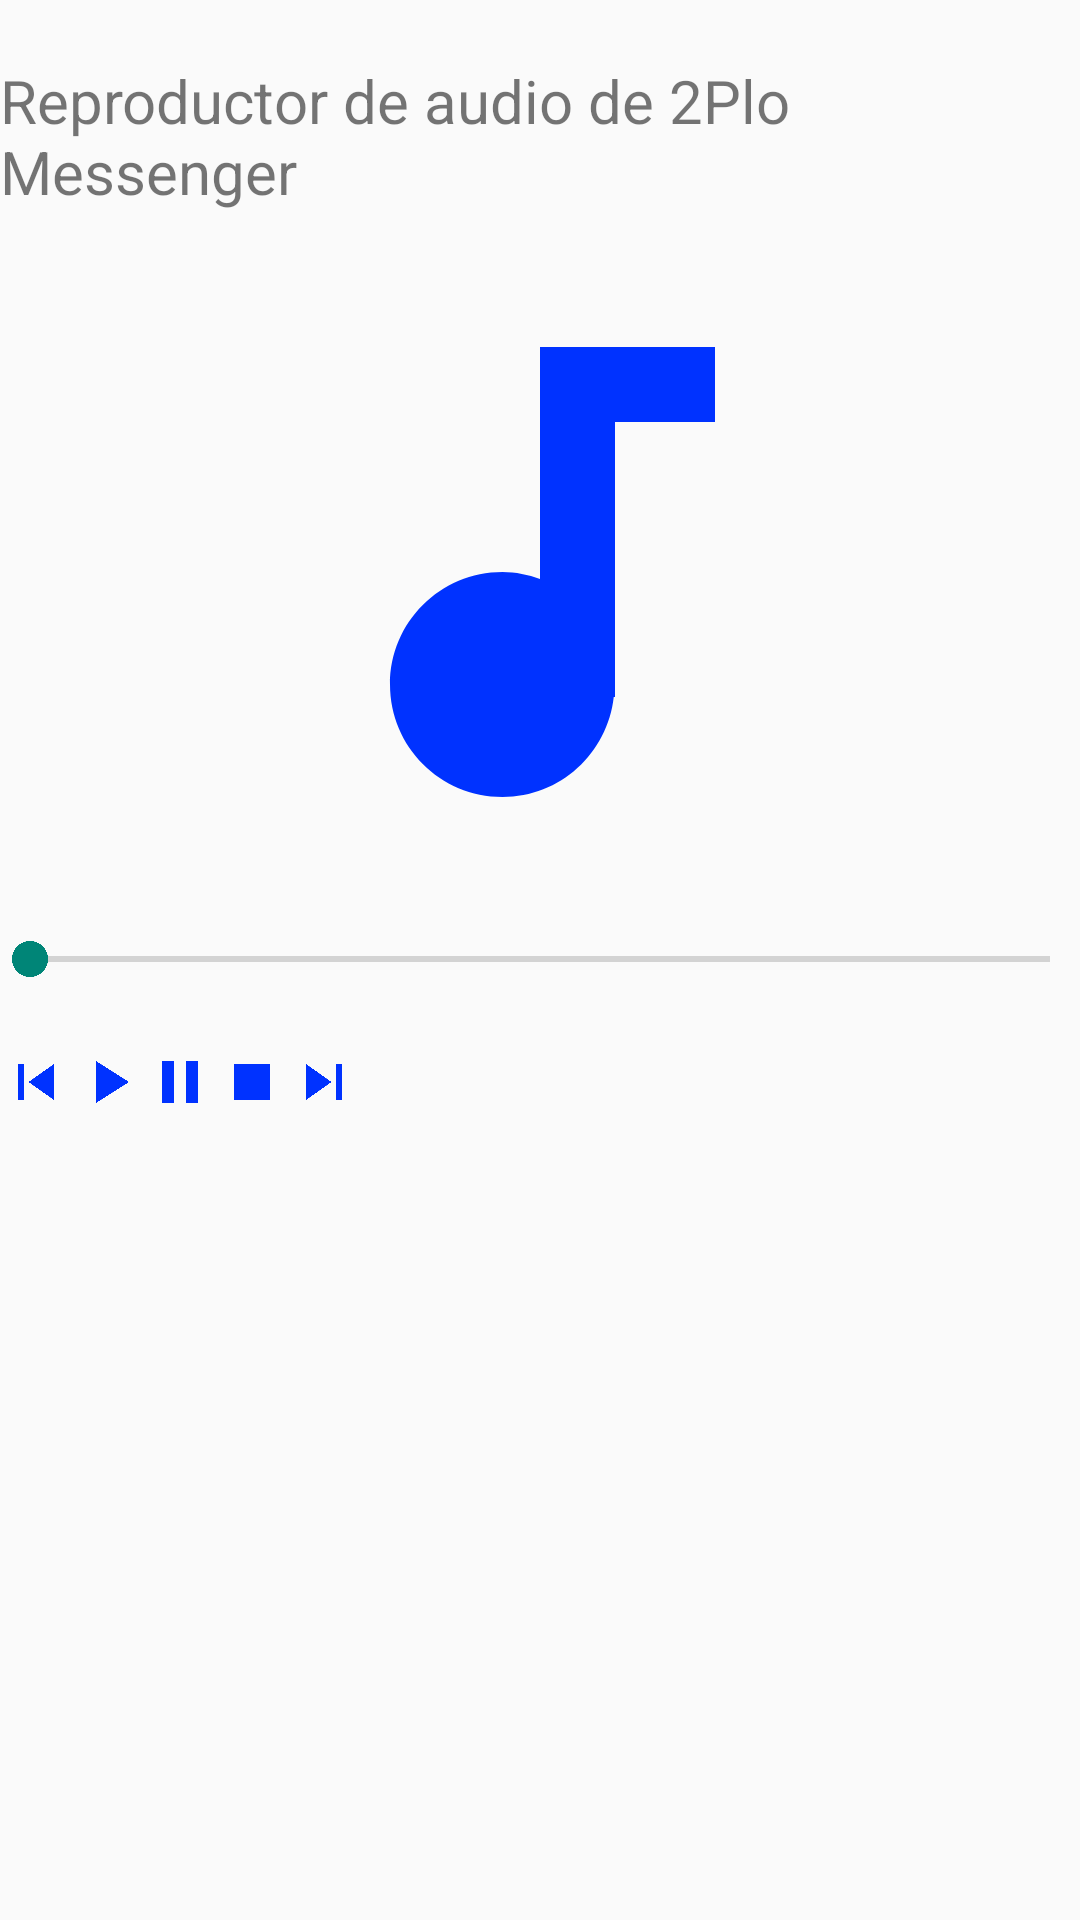

Icon bounding boxes for this 1080w x 1920h phone screenshot, format (x1, y1, x2, y2):
next: (306, 1064, 342, 1100)
pause: (162, 1061, 198, 1103)
play: (96, 1061, 128, 1103)
prev: (18, 1064, 54, 1100)
